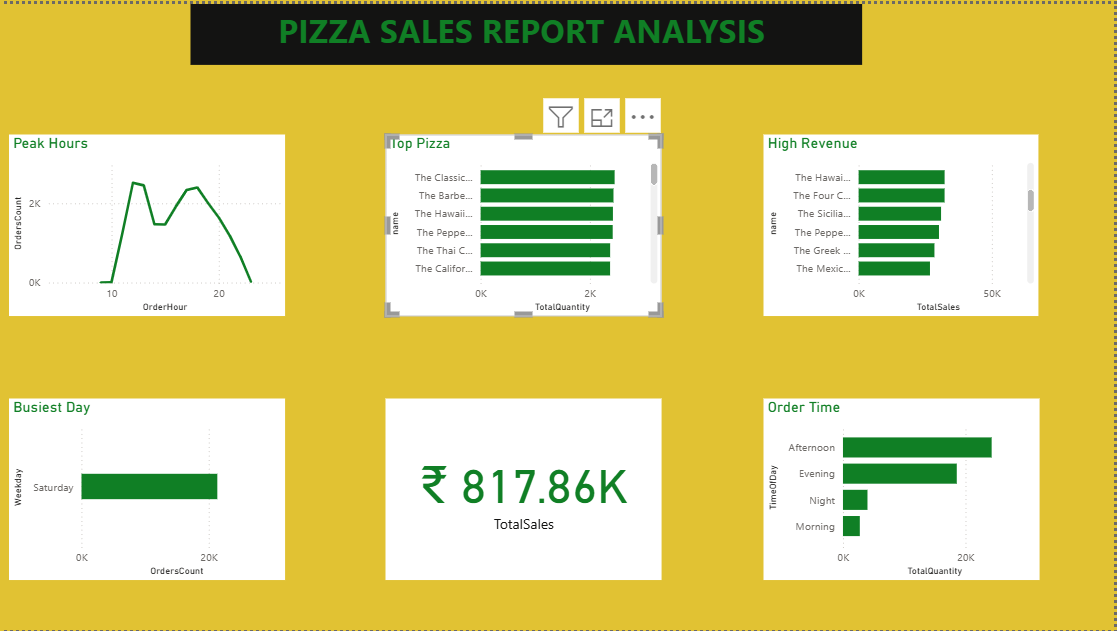

The page's visual inventory and layout, read from the dashboard file:
{"tool":"powerbi","page":{"name":"Page 1","canvas":[1280,720],"ordinal":0},"visuals":[{"type":"lineChart","title":"Peak Hours","fields":{"Y":["order_details.OrdersCount"],"Category":["orders.orderTime"]},"box":[9.7,150.6,317.4,208.9],"z":0},{"type":"barChart","title":"Busiest Day","fields":{"Category":["DateTable.Weekday"],"Y":["order_details.OrdersCount"]},"box":[9.7,453.4,317.4,208.9],"z":1000},{"type":"card","fields":{"Values":["order_details.TotalSales"]},"box":[443.7,453.4,317.4,208.9],"z":2000},{"type":"clusteredBarChart","title":"Top Pizza","fields":{"Y":["order_details.TotalQuantity"],"Category":["pizza_types.name"]},"box":[443.7,150.6,317.4,208.9],"z":3000},{"type":"clusteredBarChart","title":"High Revenue","fields":{"Category":["pizza_types.name"],"Y":["order_details.TotalSales"]},"box":[877.6,150.6,315.7,208.9],"z":4000},{"type":"clusteredBarChart","title":"Order Time","fields":{"Category":["orders.TimeOfDay"],"Y":["order_details.TotalQuantity"]},"box":[877.6,453.4,317.4,208.9],"z":5000},{"type":"textbox","box":[218.2,0,771.8,70],"z":6000}]}

Visuals, with their boxes in screenshot pixels (x1, y1, x2, y2), scaled from the page's 1280x720 canvas onto the 1117x631 screenshot:
"Peak Hours" lineChart: 8 132 285 315
"Busiest Day" barChart: 8 397 285 580
card - order_details.TotalSales: 387 397 664 580
"Top Pizza" clusteredBarChart: 387 132 664 315
"High Revenue" clusteredBarChart: 766 132 1041 315
"Order Time" clusteredBarChart: 766 397 1043 580
textbox: 190 0 864 61
